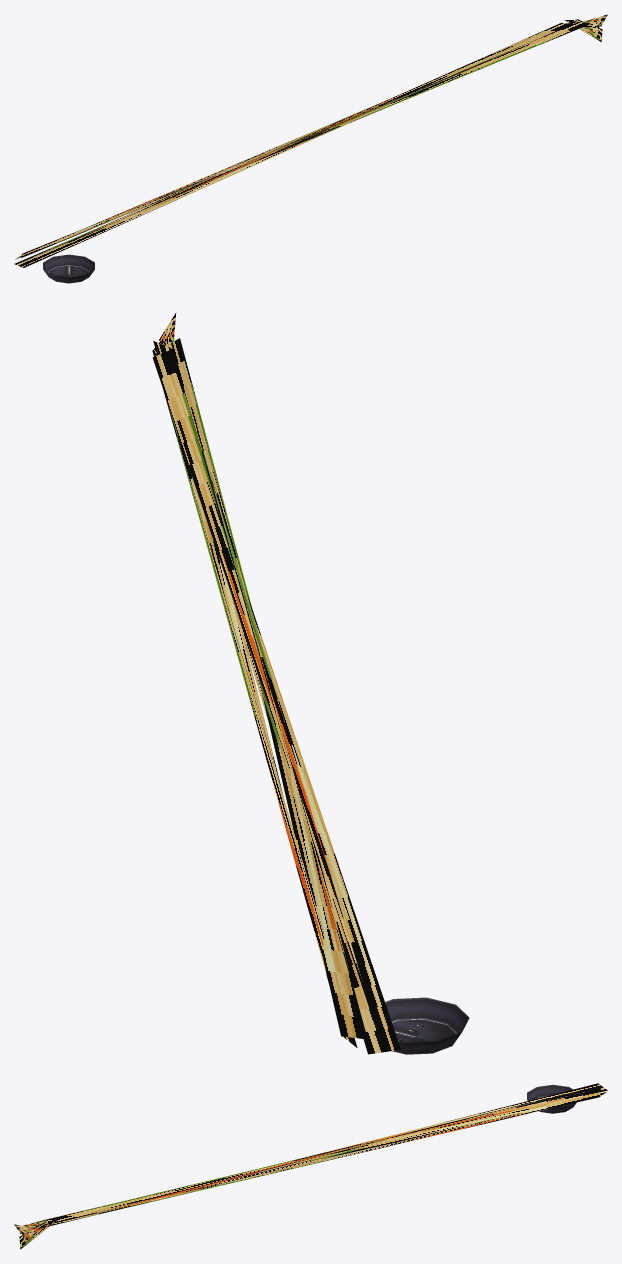
3 views of the same model, one above another, from view 1: azimuth 90°, elevation 25°; view 2: azimuth 150°, elevation 25°; view 3: azimuth 270°, elevation 25° (orthographic). The views are drawn at different scales.
Parts seen in each view (by area): view 1: 1056item527; view 2: 1056item527; view 3: 1056item527.
Part boxes in pixels (x1,y1,x2,y2): 1056item527: [14, 14, 607, 283]; 1056item527: [152, 312, 469, 1054]; 1056item527: [14, 1083, 607, 1249].
Bounding box in the file's own units: 8.86 × 1.44 × 11.04.
Materials: 2 (2 with a texture image).
